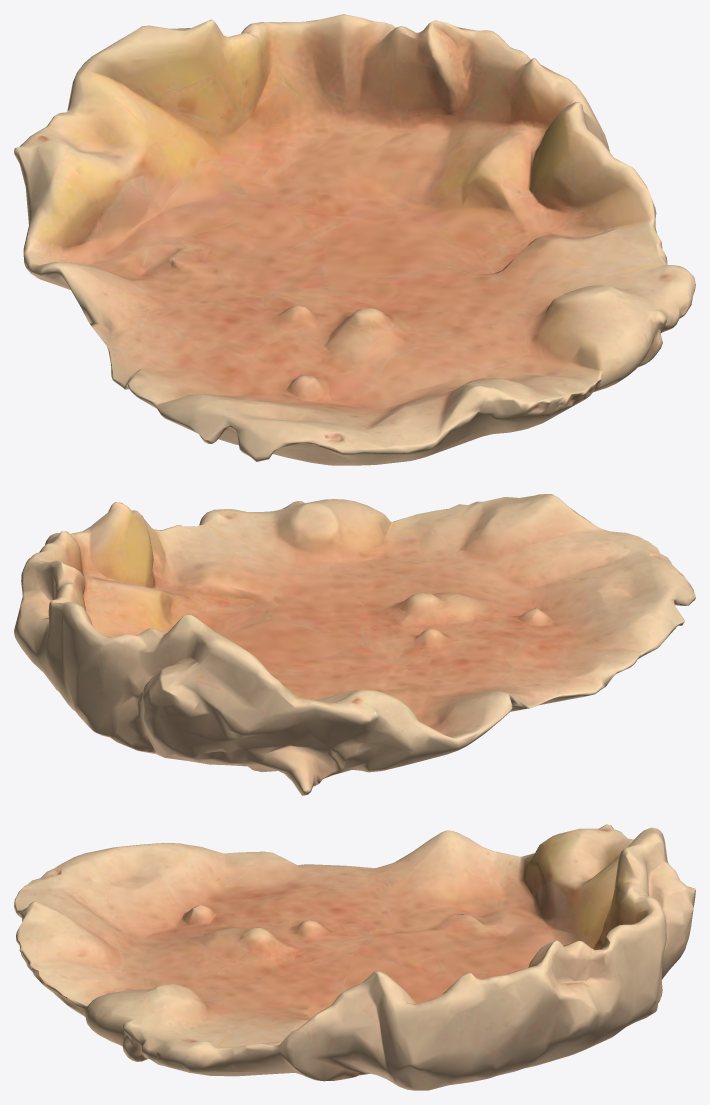
Rendered from skinflap.glb.
3 views of the same model, one above another, from view 1: azimuth 30°, elevation 25°; view 2: azimuth 150°, elevation 25°; view 3: azimuth 270°, elevation 25° (orthographic). The views are drawn at different scales.
Visible parts, largest first — view 1: Mesh_0; view 2: Mesh_0; view 3: Mesh_0.
Boxes of the visible parts, x1,y1,x2,y2 form: Mesh_0: (14,14,695,465); Mesh_0: (14,494,695,795); Mesh_0: (14,824,695,1090).
Bounding box in the file's own units: 1.58 × 0.484 × 1.9.
Materials: 1 (1 with a texture image).
